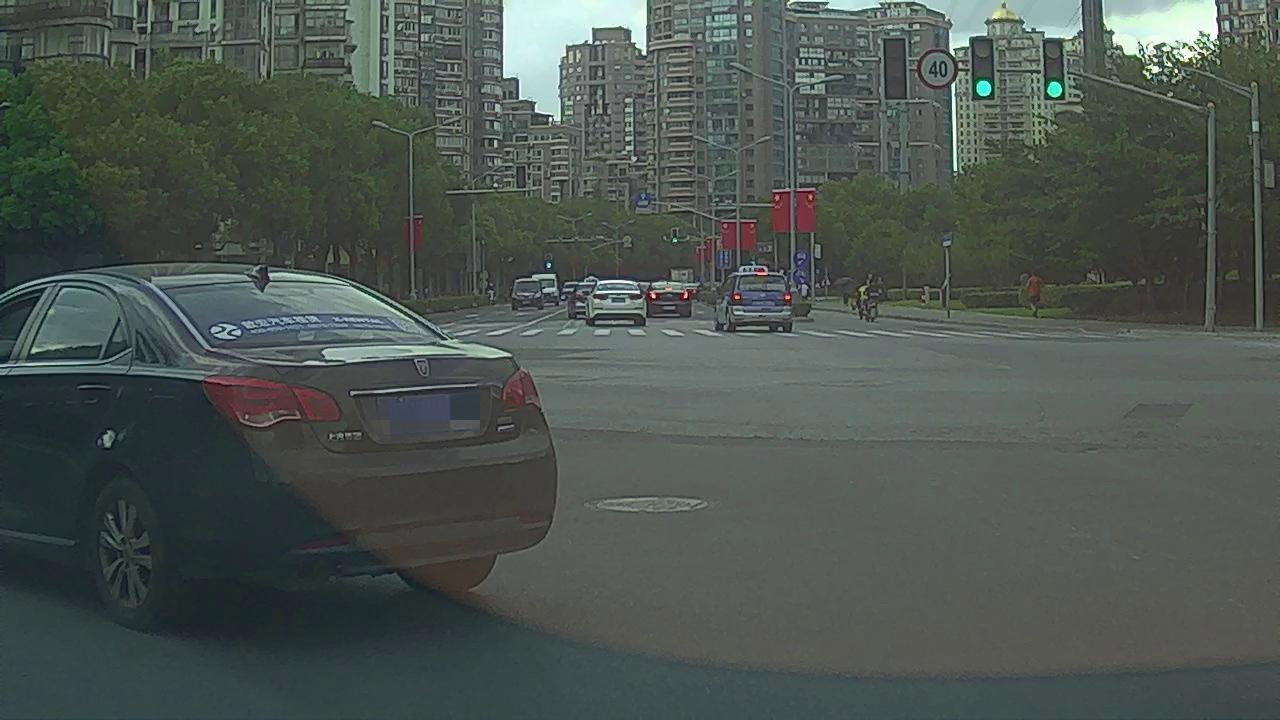traffic_light: (882, 37, 907, 100), (1042, 39, 1067, 101), (972, 37, 994, 100)
